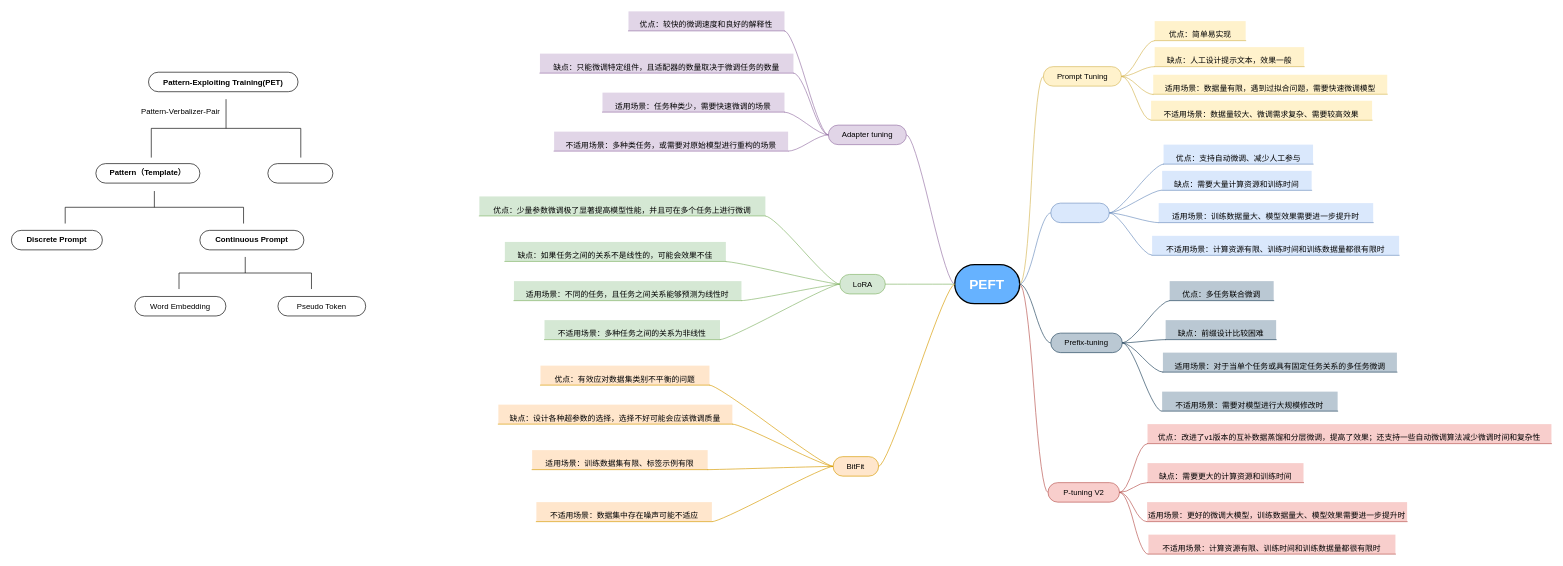
Some shapes in this 1563 by 566 pixel diagram are drawn without their labels. The box of each missing label's shape, as (x1, y1, x2, y2) in pixels:
P-tuning: (1050, 202, 1109, 223)
Verbalizer: (267, 163, 333, 183)
